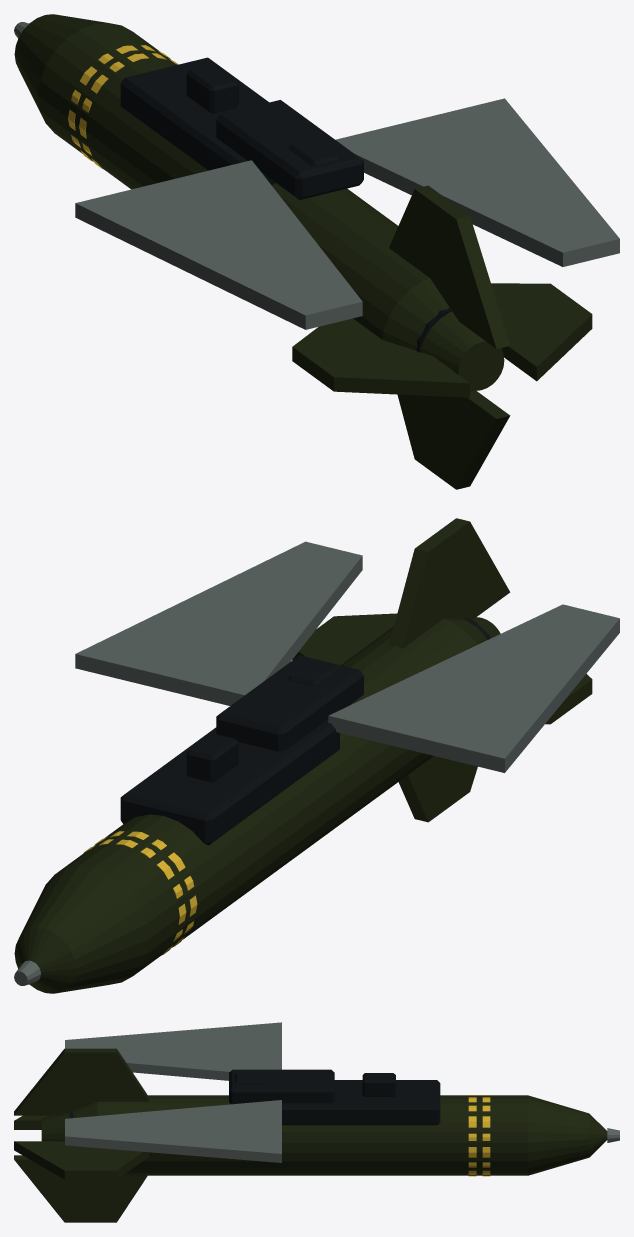
Rendered from BombGlide__Folded.obj.
3 views of the same model, one above another, from view 1: azimuth 30°, elevation 25°; view 2: azimuth 150°, elevation 25°; view 3: azimuth 270°, elevation 25° (orthographic). The views are drawn at different scales.
Parts seen in each view (by area): view 1: Bomb_forged_casing, Deployable_glide_wing, Deployable_glide_wing.001, Tail_stabilizer.001, Tail_stabilizer.002, Mount_lug, Wing_hinge_housing, Tail_stabilizer.003, Tail_stabilizer, Suspension_lug.001, Suspension_lug, Identification_band (+1 smaller); view 2: Bomb_forged_casing, Deployable_glide_wing, Deployable_glide_wing.001, Wing_hinge_housing, Tail_stabilizer.001, Mount_lug, Tail_stabilizer.003, Tail_stabilizer, Suspension_lug.001, Suspension_lug, Identification_band.001, Identification_band (+1 smaller); view 3: Bomb_forged_casing, Deployable_glide_wing.001, Deployable_glide_wing, Tail_stabilizer.001, Wing_hinge_housing, Tail_stabilizer.003, Tail_stabilizer, Mount_lug, Suspension_lug.001, Identification_band.001, Identification_band, Tail_stabilizer.002 (+1 smaller).
Boxes of the visible parts, bbox=[...] form: Bomb_forged_casing: bbox=[14, 14, 504, 391]; Deployable_glide_wing: bbox=[75, 160, 362, 329]; Deployable_glide_wing.001: bbox=[335, 98, 619, 266]; Tail_stabilizer.001: bbox=[389, 185, 510, 348]; Tail_stabilizer.002: bbox=[292, 318, 469, 397]; Mount_lug: bbox=[216, 100, 363, 199]; Wing_hinge_housing: bbox=[120, 57, 275, 185]; Tail_stabilizer.003: bbox=[397, 391, 510, 489]; Tail_stabilizer: bbox=[491, 283, 592, 381]; Suspension_lug.001: bbox=[186, 64, 238, 113]; Suspension_lug: bbox=[288, 139, 340, 166]; Identification_band: bbox=[68, 45, 170, 161]; Bomb_forged_casing: bbox=[14, 617, 500, 993]; Deployable_glide_wing: bbox=[328, 604, 619, 772]; Deployable_glide_wing.001: bbox=[75, 541, 362, 705]; Wing_hinge_housing: bbox=[120, 719, 339, 845]; Tail_stabilizer.001: bbox=[389, 518, 510, 648]; Mount_lug: bbox=[216, 655, 363, 751]; Tail_stabilizer.003: bbox=[398, 756, 477, 822]; Tail_stabilizer: bbox=[292, 613, 397, 665]; Suspension_lug.001: bbox=[186, 733, 238, 782]; Suspension_lug: bbox=[288, 659, 340, 685]; Identification_band.001: bbox=[95, 831, 197, 947]; Identification_band: bbox=[83, 839, 186, 954]; Bomb_forged_casing: bbox=[41, 1095, 607, 1175]; Deployable_glide_wing.001: bbox=[65, 1100, 281, 1162]; Deployable_glide_wing: bbox=[65, 1022, 281, 1080]; Tail_stabilizer.001: bbox=[14, 1048, 149, 1115]; Wing_hinge_housing: bbox=[282, 1080, 440, 1125]; Tail_stabilizer.003: bbox=[14, 1155, 147, 1222]; Tail_stabilizer: bbox=[14, 1141, 149, 1179]; Mount_lug: bbox=[229, 1069, 334, 1104]; Suspension_lug.001: bbox=[362, 1073, 395, 1096]; Identification_band.001: bbox=[468, 1095, 476, 1176]; Identification_band: bbox=[482, 1095, 490, 1176]; Tail_stabilizer.002: bbox=[14, 1115, 48, 1129].
Size of the model in its own units: 1.12 by 0.674 by 2.18.
